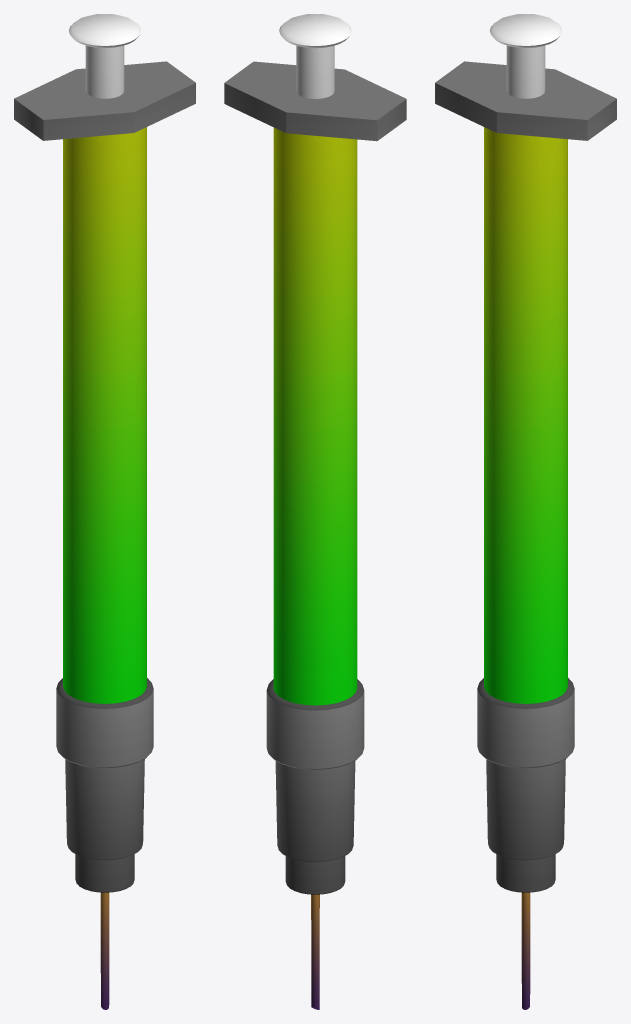
File: Needle.FBX
3 renders of one model, left to right at view 1: azimuth 30°, elevation 25°; view 2: azimuth 150°, elevation 25°; view 3: azimuth 330°, elevation 25°, orthographic.
Parts seen in each view (by area): view 1: Syringe; view 2: Syringe; view 3: Syringe.
Boxes of the visible parts, x1,y1,x2,y2 form: Syringe: (14, 14, 195, 1009); Syringe: (224, 14, 406, 1009); Syringe: (435, 14, 616, 1009).
Bounding box in the file's own units: 10.18 × 62.45 × 6.74.
1 material, 1 textured.
